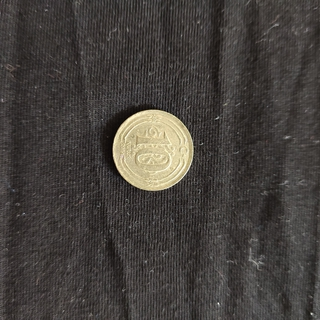10KURUS: (109, 107, 195, 192)
